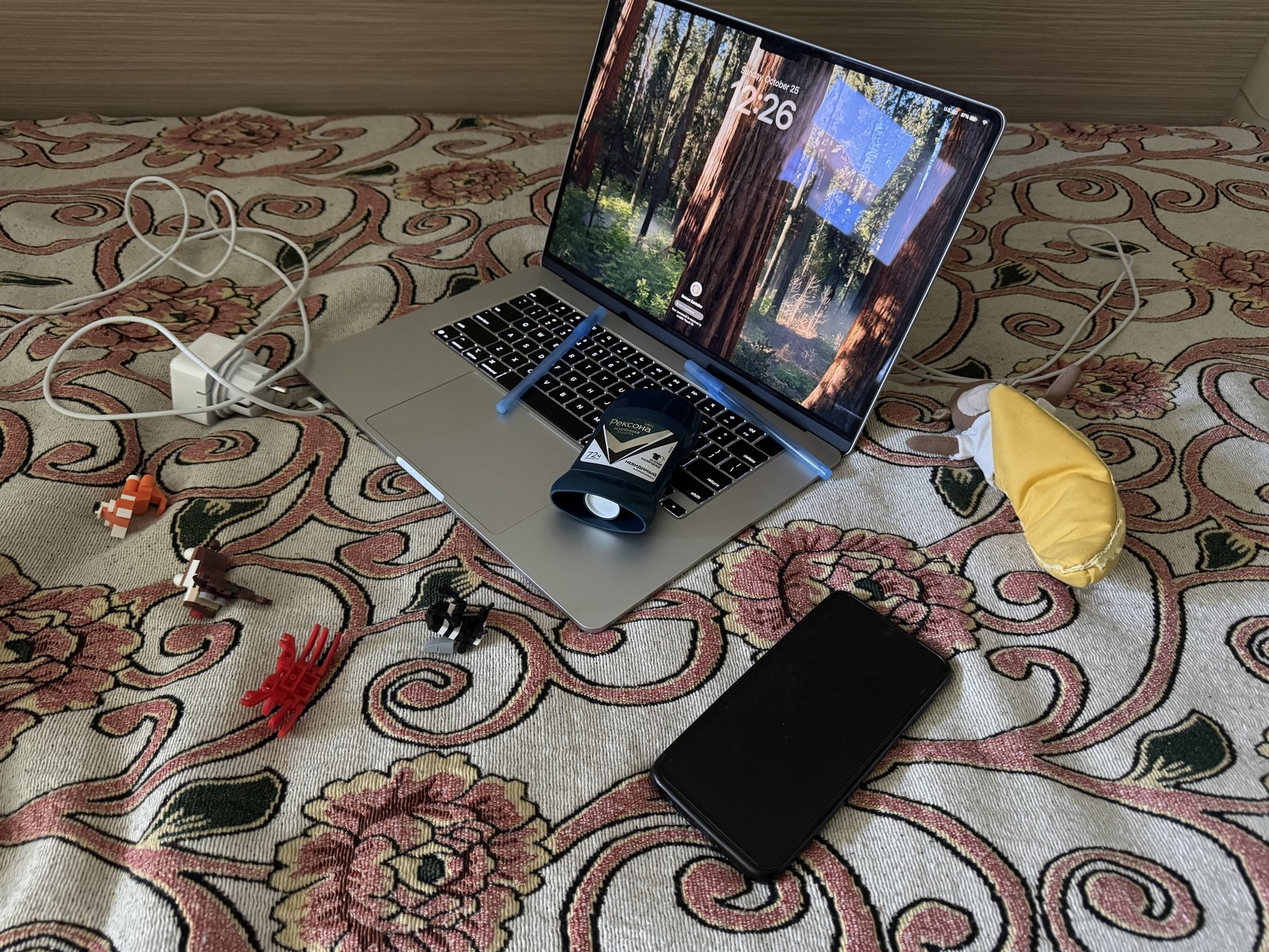cell phone: (649, 590, 953, 882)
laptop: (292, 0, 1006, 635)
